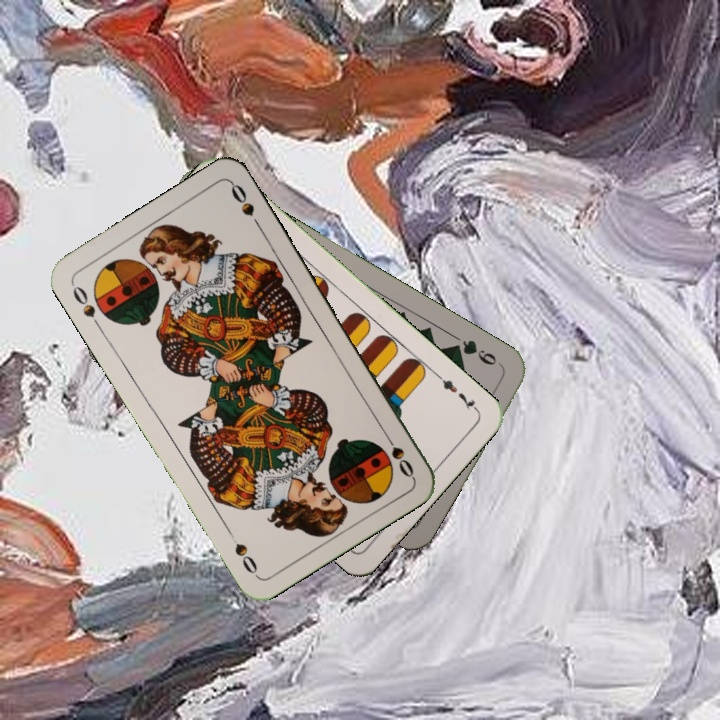E7: (433, 370, 481, 414)
G9: (447, 335, 500, 368)
SO: (379, 427, 417, 481), (67, 280, 105, 333)
